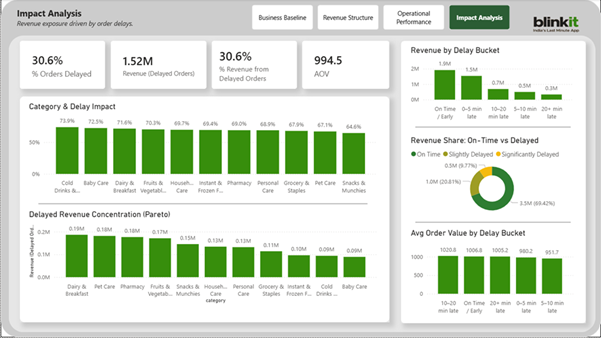

Layout of this report page (visuals, bound fields, positions):
{"tool":"powerbi","page":{"name":"Impact Analysis","canvas":[1280,720],"ordinal":3},"visuals":[{"type":"shape","box":[0,0,1280,719.7],"z":0},{"type":"shape","box":[16.6,76.3,1250.9,632.4],"z":1000},{"type":"textbox","box":[29.1,11.1,506.2,62.4],"z":2000},{"type":"image","box":[1121.9,0,124.8,106.8],"z":3000},{"type":"shape","box":[40.2,206.6,787.7,481.2],"z":4000},{"type":"cardVisual","fields":{"Data":["KPI_Measures.% Orders Delayed"]},"box":[40.2,87.4,181.7,102.6],"z":5000},{"type":"cardVisual","fields":{"Data":["KPI_Measures.Revenue (Delayed Orders)"]},"box":[234.4,87.4,203.9,102.6],"z":6000},{"type":"cardVisual","fields":{"Data":["KPI_Measures.% Revenue from Delayed Orders"]},"box":[449.3,87.4,181.7,102.6],"z":7000},{"type":"cardVisual","fields":{"Data":["KPI_Measures.AOV"]},"box":[642.1,87.4,185.8,102.6],"z":8000},{"type":"shape","box":[80.4,423,701.7,25],"z":9000},{"type":"columnChart","title":"Category & Delay Impact","fields":{"Category":["DimProduct.category"],"Y":["KPI_Measures.On-Time Delivery %"]},"box":[55.5,217.7,751.6,205.2],"z":10000},{"type":"columnChart","title":"Delayed Revenue Concentration (Pareto)","fields":{"Category":["DimProduct.category"],"Y":["KPI_Measures.Revenue (Delayed Orders)"]},"box":[55.5,447.9,751.6,205.2],"z":11000},{"type":"shape","box":[852.9,87.4,393.8,601.9],"z":12000},{"type":"donutChart","title":"Revenue Share: On-Time vs Delayed","fields":{"Y":["KPI_Measures.Total Revenue"],"Category":["FactOrderItems.delivery_status"]},"box":[869.5,289.8,356.4,177.5],"z":13000},{"type":"columnChart","title":"Revenue by Delay Bucket","fields":{"Category":["FactOrderItems.Delay Bucket"],"Y":["KPI_Measures.Total Revenue"]},"box":[869.5,98.5,356.4,166.4],"z":14000},{"type":"columnChart","title":"Avg Order Value by Delay Bucket","fields":{"Category":["FactOrderItems.Delay Bucket"],"Y":["KPI_Measures.AOV"]},"box":[869.5,486.8,356.4,191.4],"z":15000},{"type":"shape","box":[883.4,259.3,331.4,25],"z":16000},{"type":"shape","box":[883.4,461.8,331.4,25],"z":17000},{"type":"pageNavigator","box":[535.6,11,553.9,53.8],"z":18000}]}

Visuals, with their boxes in screenshot pixels (x1, y1, x2, y2), scaled from the page's 1280x720 canvas onto the 601x338 screenshot:
shape: [0, 0, 600, 337]
shape: [8, 36, 595, 333]
textbox: [14, 5, 251, 35]
image: [527, 0, 585, 50]
shape: [19, 97, 389, 323]
cardVisual - KPI_Measures.% Orders Delayed: [19, 41, 104, 89]
cardVisual - KPI_Measures.Revenue (Delayed Orders): [110, 41, 206, 89]
cardVisual - KPI_Measures.% Revenue from Delayed Orders: [211, 41, 296, 89]
cardVisual - KPI_Measures.AOV: [301, 41, 389, 89]
shape: [38, 199, 367, 210]
"Category & Delay Impact" columnChart: [26, 102, 379, 199]
"Delayed Revenue Concentration (Pareto)" columnChart: [26, 210, 379, 307]
shape: [400, 41, 585, 324]
"Revenue Share: On-Time vs Delayed" donutChart: [408, 136, 576, 219]
"Revenue by Delay Bucket" columnChart: [408, 46, 576, 124]
"Avg Order Value by Delay Bucket" columnChart: [408, 229, 576, 318]
shape: [415, 122, 570, 133]
shape: [415, 217, 570, 229]
pageNavigator: [251, 5, 512, 30]
